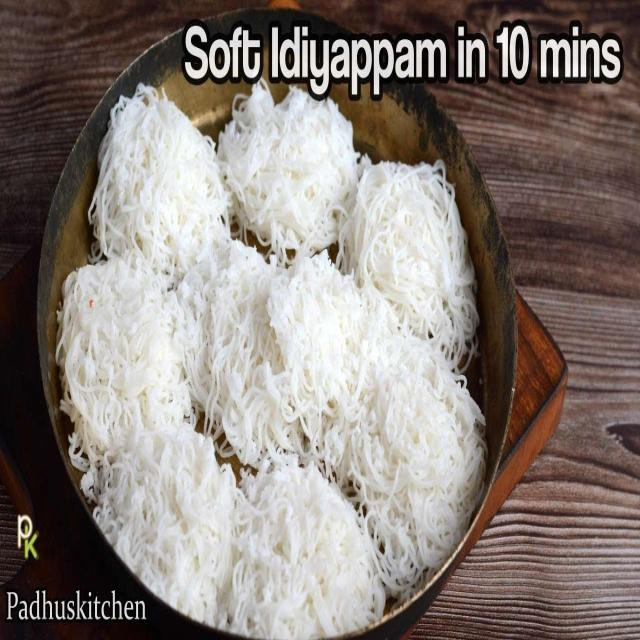IDIYAPPAM: (59, 74, 498, 632)
